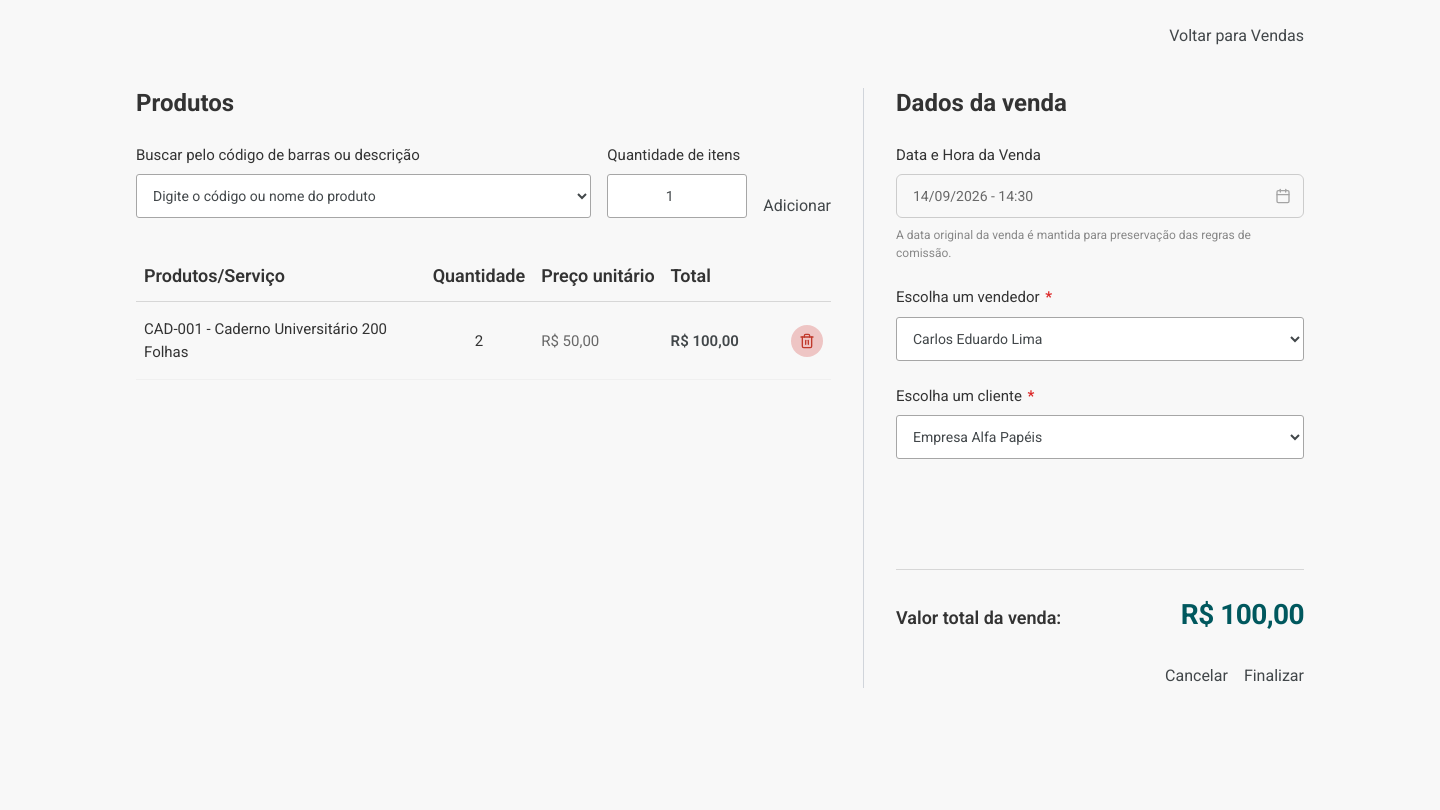
Página SaleEdit (Alterar Venda) › permite remover item existente e recalcula o total
expect the text "CAD-001 - Caderno Universitário 200 Folhas" is shown: met, box [136,302,425,380]
Clica no botão de remover (ícone lixeira)
Click the button named "remover" at (807, 341), box [791,325,823,357]
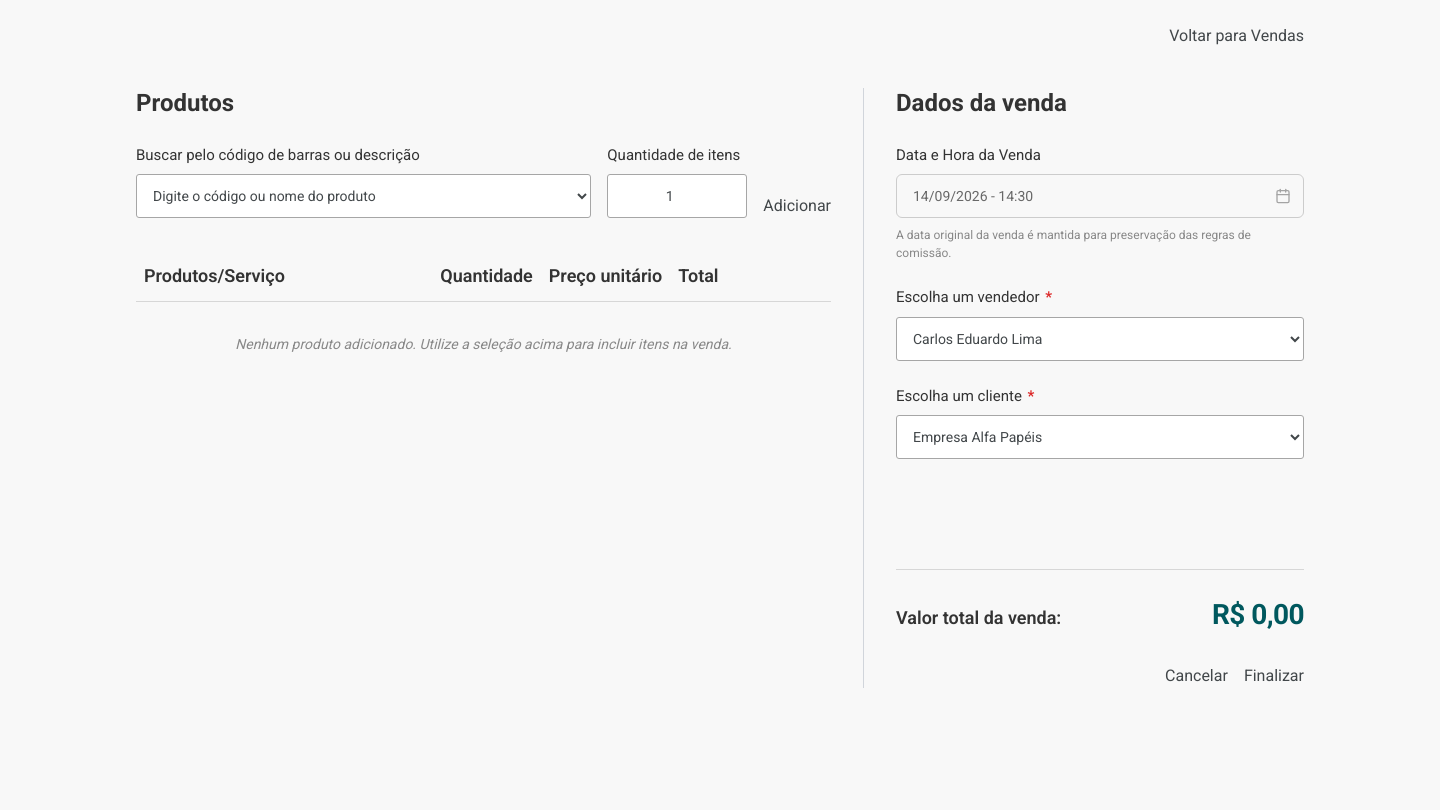
expect the text "Nenhum produto adicionado" is shown: met, box [235,336,732,352]
